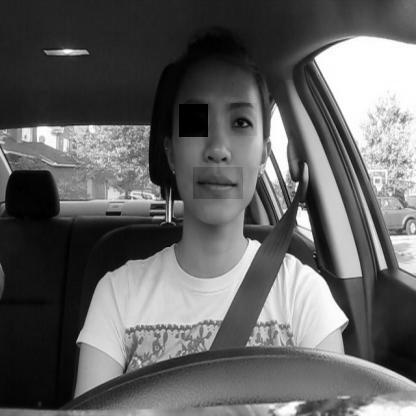seatbelt: (137, 28, 289, 349)
